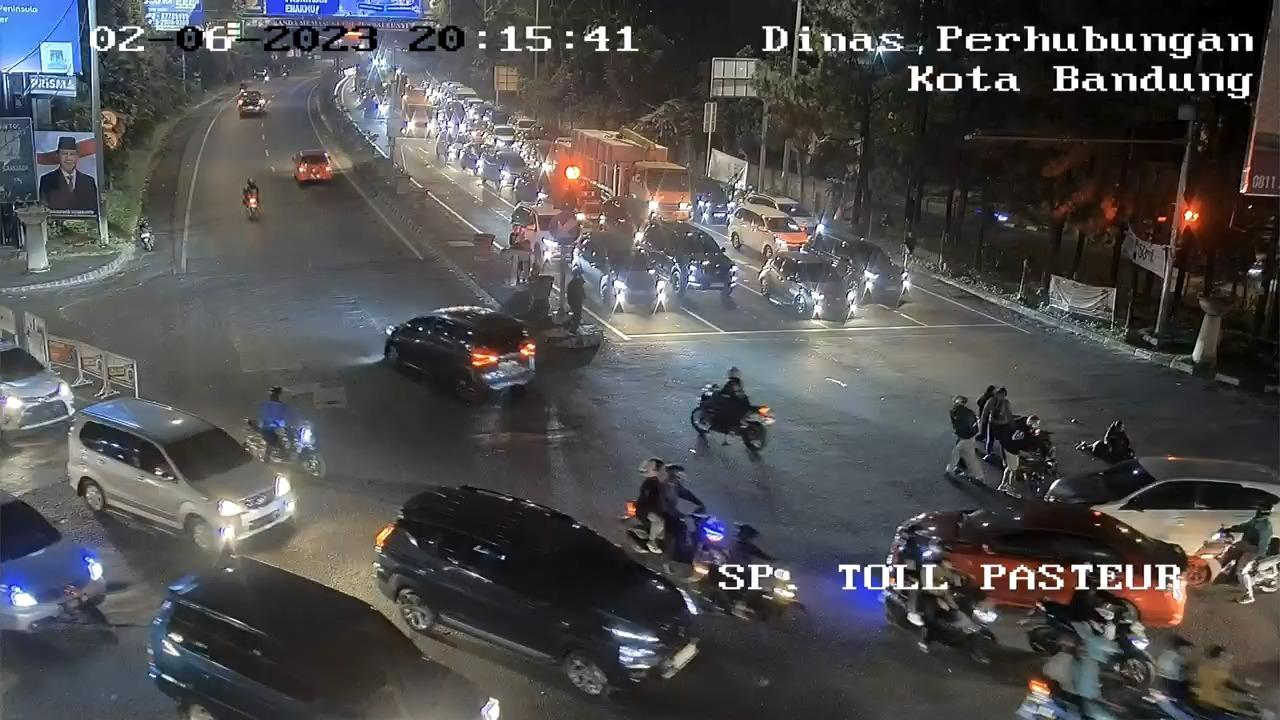accident: (1075, 418, 1137, 462)
